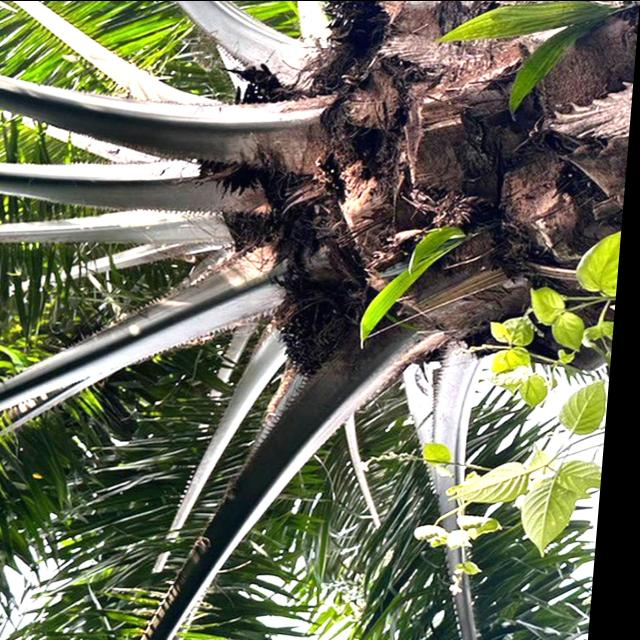unripe: (277, 261, 375, 387)
